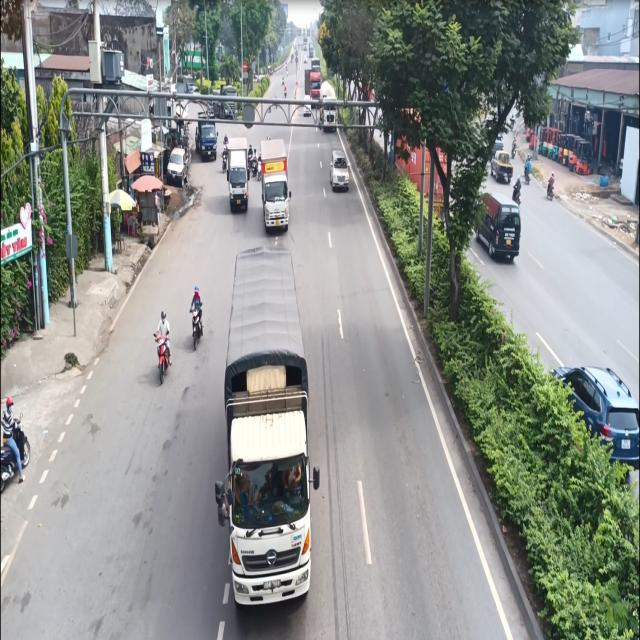car: (327, 148, 355, 197)
motorbike: (0, 387, 36, 498), (185, 278, 208, 362), (150, 301, 174, 381)
truck: (225, 243, 321, 616), (260, 138, 296, 231), (226, 137, 252, 214)
